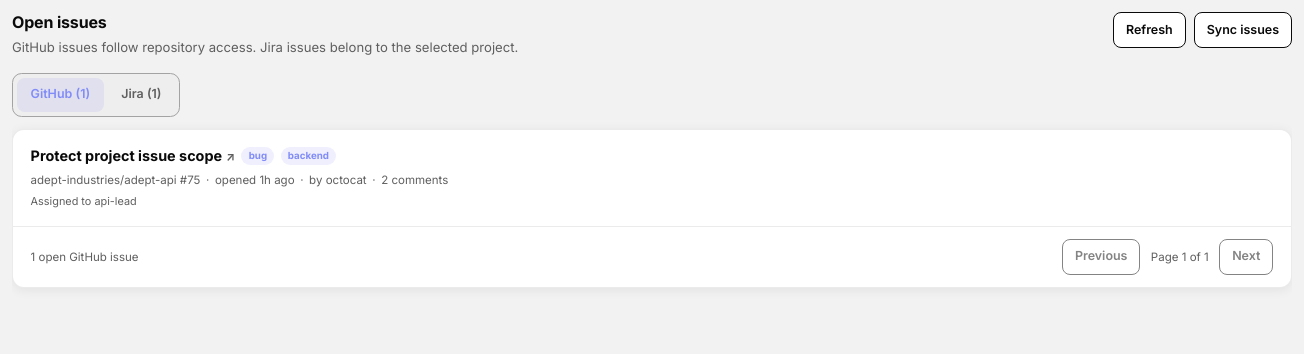
Test case: ProjectIssuesSection › allows only Managers to queue provider synchronization
Click the button "Sync issues".
click(1243, 30)  # box [1194, 12, 1292, 48]
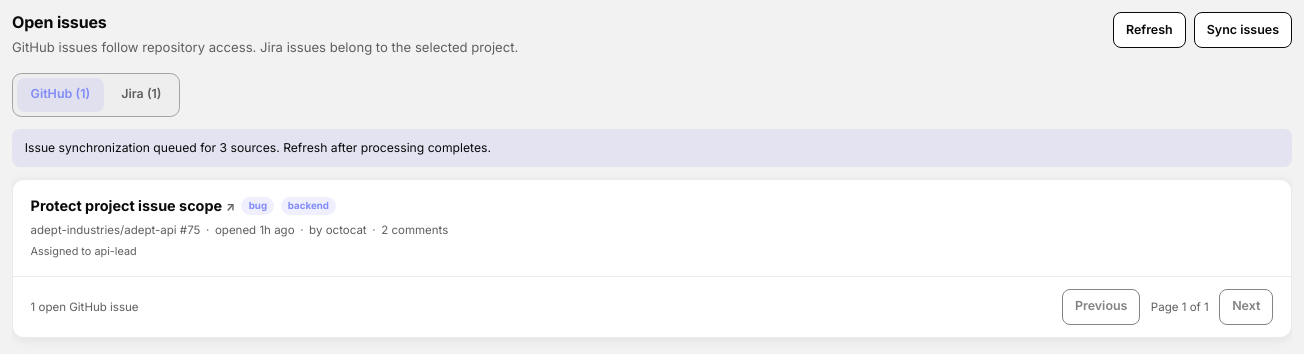
Now the message shows "queued for 3 sources", box [25, 140, 491, 155]
